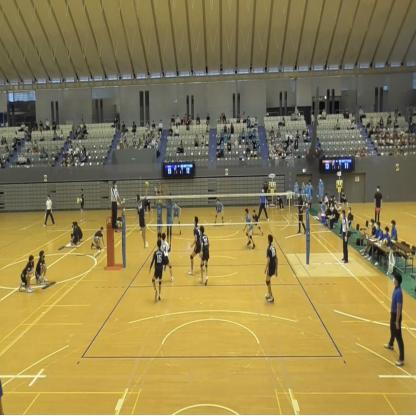spike: (132, 180, 152, 251)
